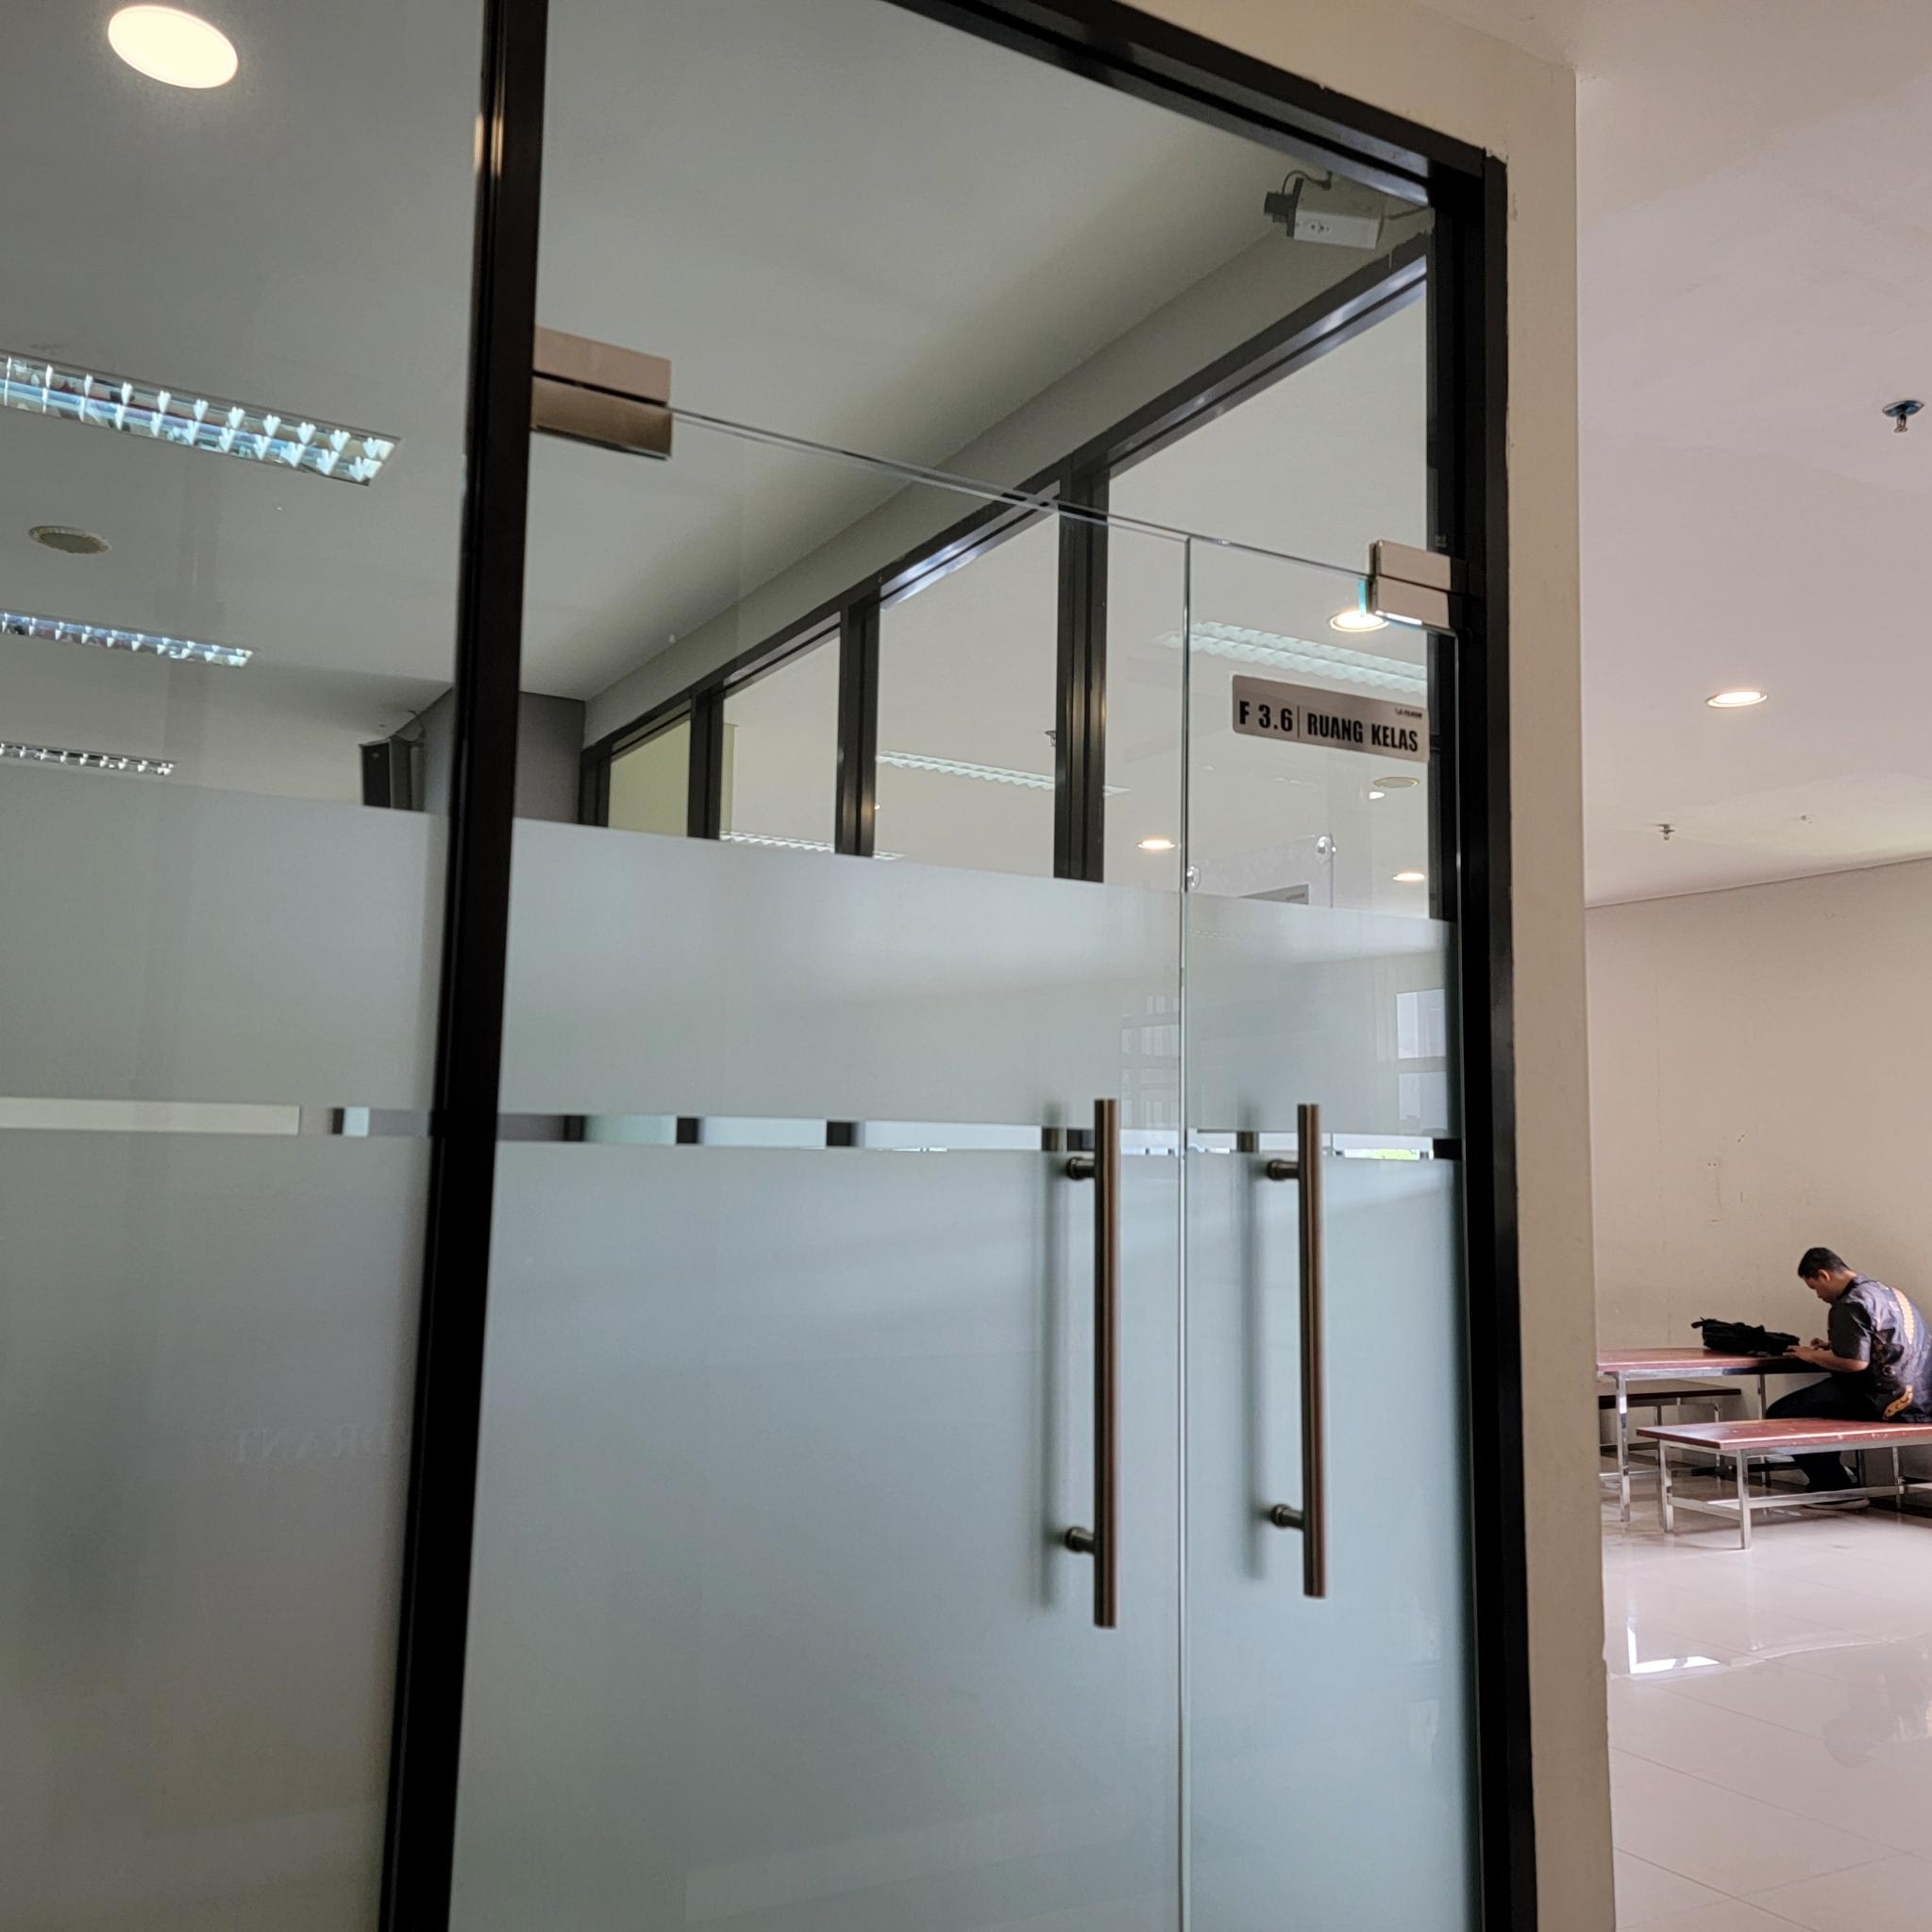plate: (1233, 674, 1430, 766)
